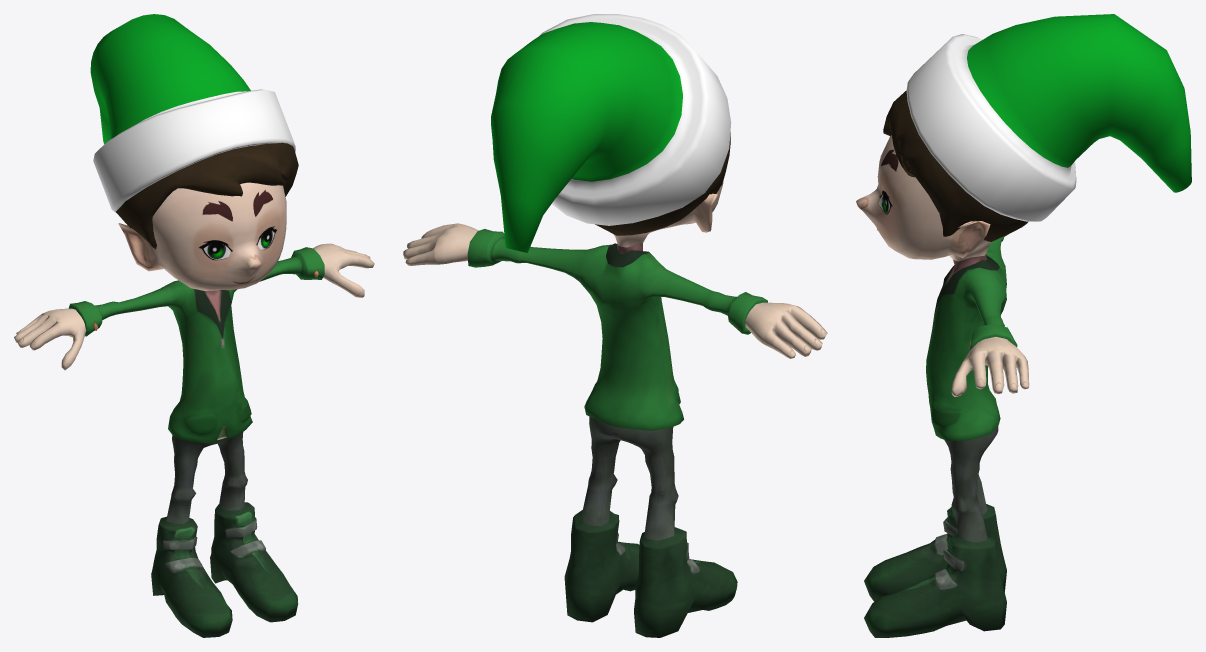
Rendered from Lutin.fbx.
3 views of the same model, side by side, from view 1: azimuth 30°, elevation 25°; view 2: azimuth 150°, elevation 25°; view 3: azimuth 270°, elevation 25° (orthographic). The views are drawn at different scales.
Parts seen in each view (by area): view 1: Boy01_Shoes_Geo; view 2: Boy01_Shoes_Geo; view 3: Boy01_Shoes_Geo.
Part boxes in pixels (left/top/right/bottom): Boy01_Shoes_Geo: left=14, top=14, right=374, bottom=637; Boy01_Shoes_Geo: left=403, top=14, right=827, bottom=637; Boy01_Shoes_Geo: left=856, top=14, right=1191, bottom=637.
Size of the model in its own units: 290 by 420 by 215.
Materials: 7 (7 with a texture image).
